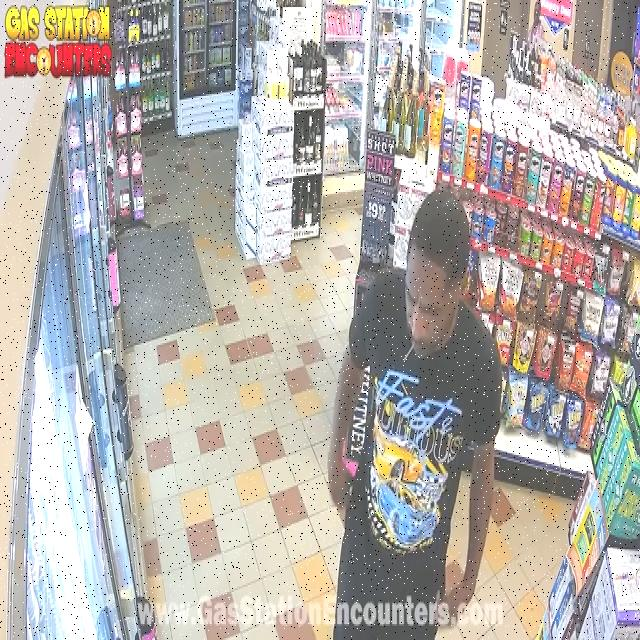hands: (327, 356, 359, 508), (439, 574, 474, 624)
person: (328, 190, 500, 638)
